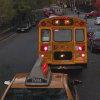Bus: (33, 13, 90, 68)
